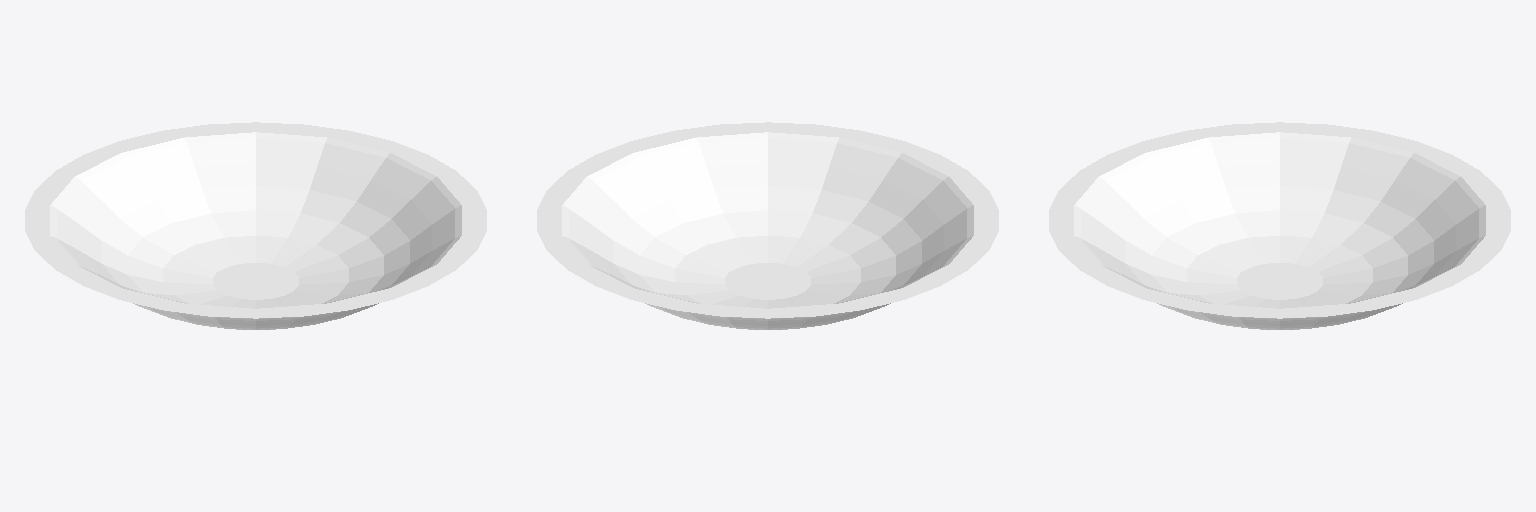
The model's file is TARELKA.obj.
3 renders of one model, left to right at view 1: azimuth 30°, elevation 25°; view 2: azimuth 150°, elevation 25°; view 3: azimuth 270°, elevation 25°, orthographic.
Parts seen in each view (by area): view 1: Cylinder001; view 2: Cylinder001; view 3: Cylinder001.
Boxes of the visible parts, x1,y1,x2,y2 form: Cylinder001: [25, 122, 486, 329]; Cylinder001: [537, 122, 998, 329]; Cylinder001: [1049, 122, 1510, 329].
Size of the model in its own units: 361 by 60.98 by 359.